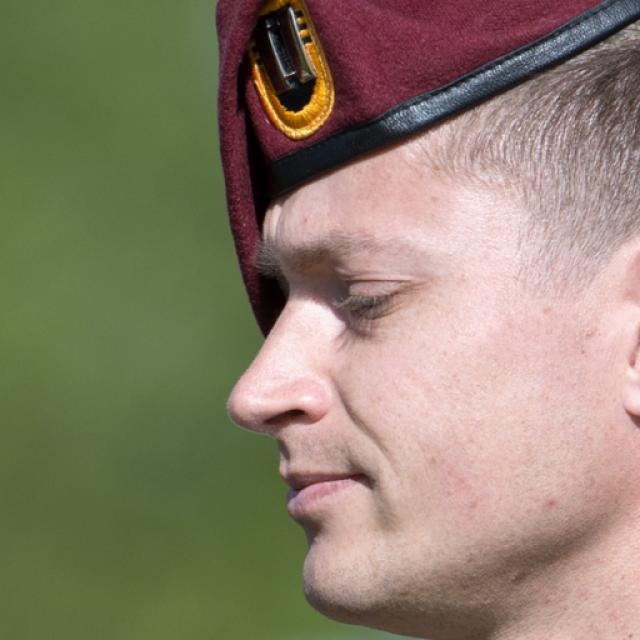sad: (224, 76, 626, 614)
